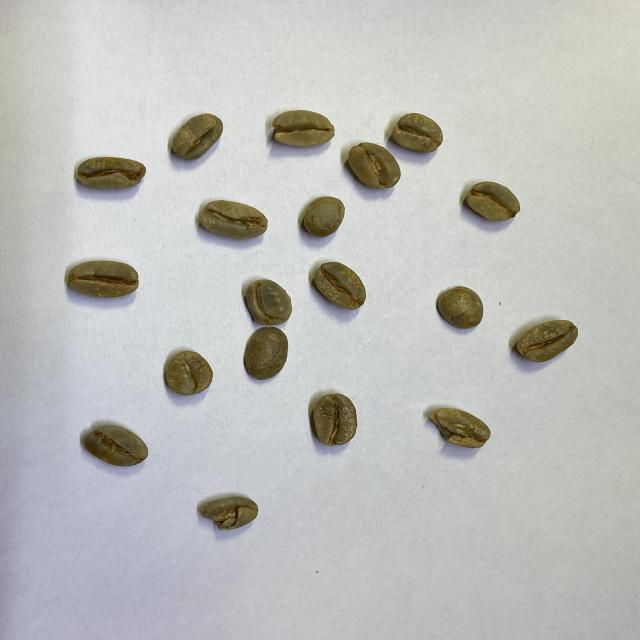bad: (426, 406, 492, 450), (196, 493, 262, 530)
good: (80, 423, 149, 469), (512, 319, 579, 362), (198, 199, 268, 240), (64, 260, 140, 297), (168, 111, 224, 161), (309, 261, 367, 309), (161, 348, 215, 397), (244, 325, 288, 383), (271, 110, 336, 149), (78, 156, 148, 192), (349, 142, 401, 190), (312, 393, 359, 446), (466, 181, 522, 222), (245, 279, 292, 326), (392, 112, 443, 154), (438, 286, 485, 329), (299, 196, 347, 235)
